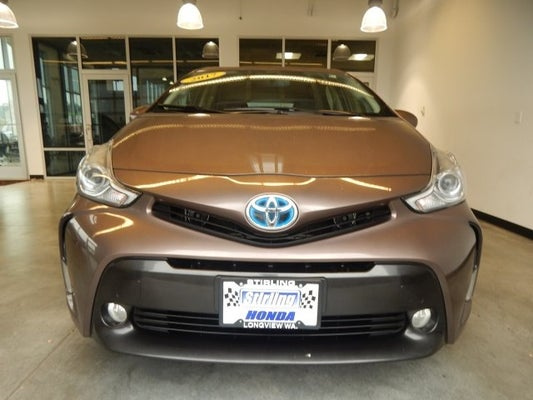Toyota Prius: (60, 65, 483, 366)
